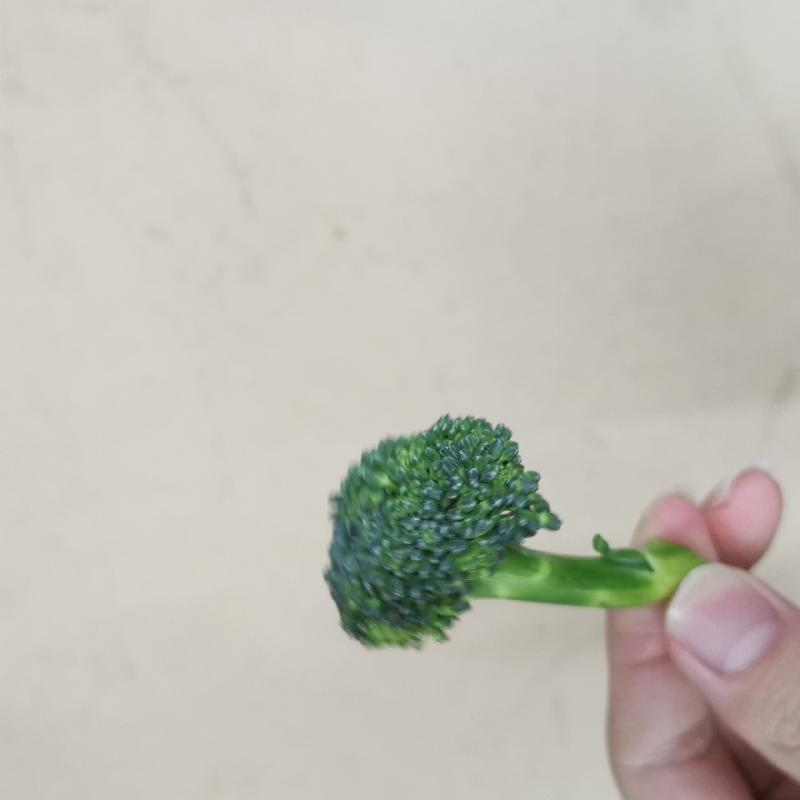broccoli: (319, 404, 706, 648)
